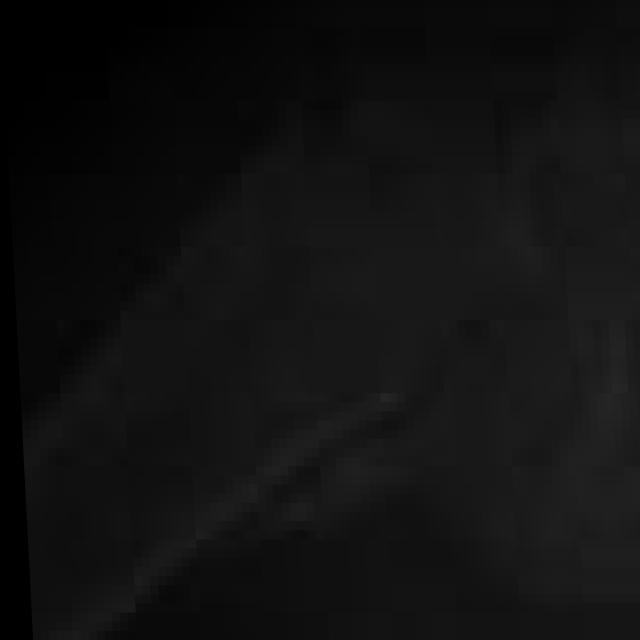fracture: (17, 1, 640, 640)
